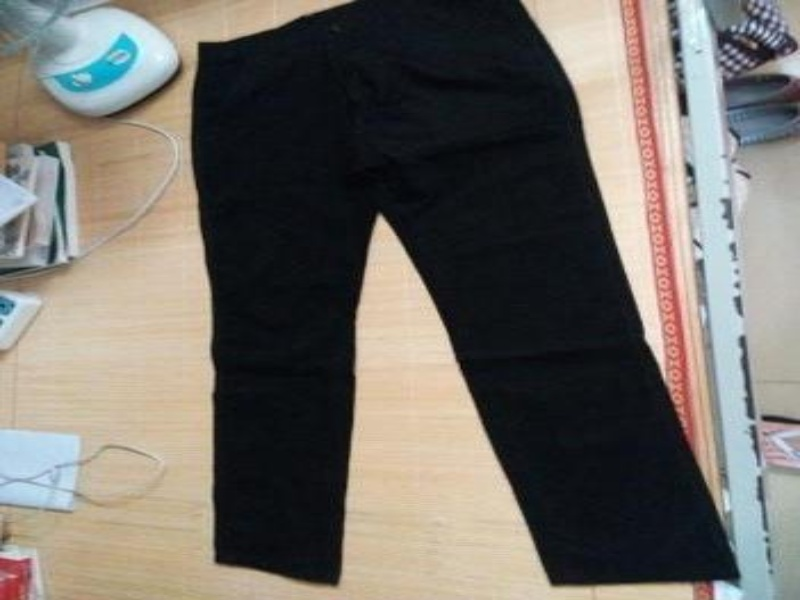trousers: (185, 0, 748, 591)
